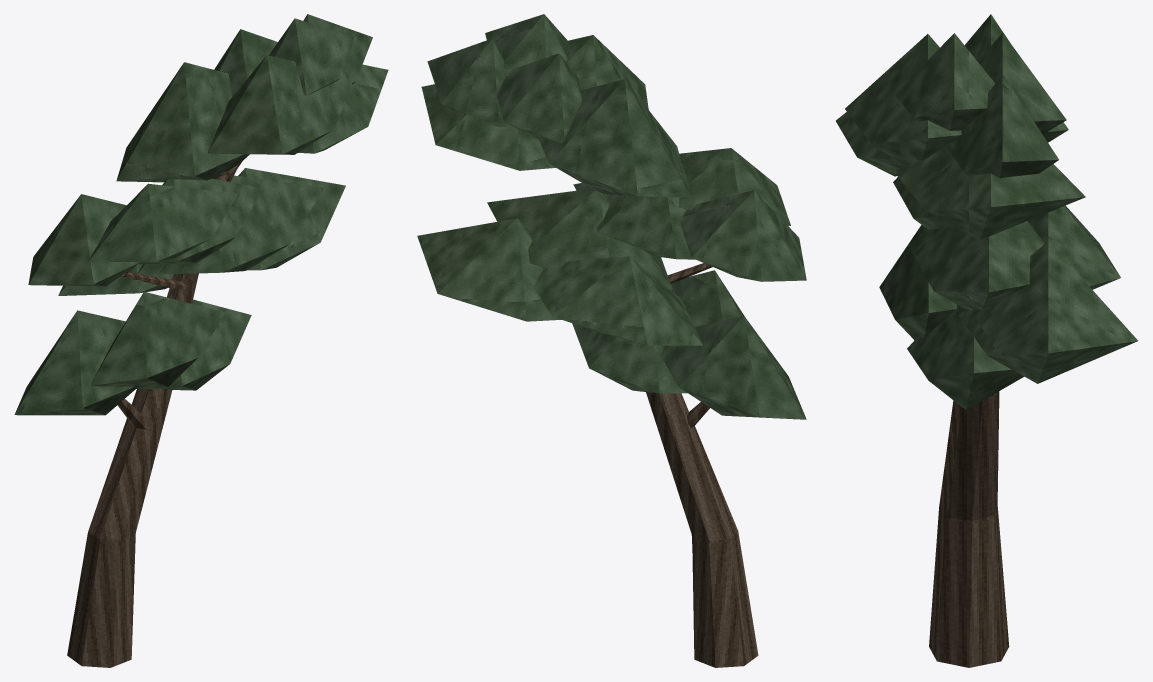
Rendered from coastal-pine.glb.
The picture shows the model from 3 angles, left to right: view 1: azimuth 30°, elevation 25°; view 2: azimuth 150°, elevation 25°; view 3: azimuth 270°, elevation 25°; orthographic projection. The views are drawn at different scales.
Parts seen in each view (by area): view 1: Pine_WindwardCrown, Pine_LeaningBranches; view 2: Pine_WindwardCrown, Pine_LeaningBranches; view 3: Pine_WindwardCrown, Pine_LeaningBranches.
Boxes of the visible parts, x1,y1,x2,y2 form: Pine_WindwardCrown: (14, 14, 388, 415); Pine_LeaningBranches: (67, 157, 246, 667); Pine_WindwardCrown: (417, 14, 806, 419); Pine_LeaningBranches: (606, 194, 758, 667); Pine_WindwardCrown: (836, 14, 1137, 409); Pine_LeaningBranches: (929, 391, 1009, 667).
Size of the model in its own units: 3.94 by 5.88 by 2.21.
Materials: 2 (2 with a texture image).
